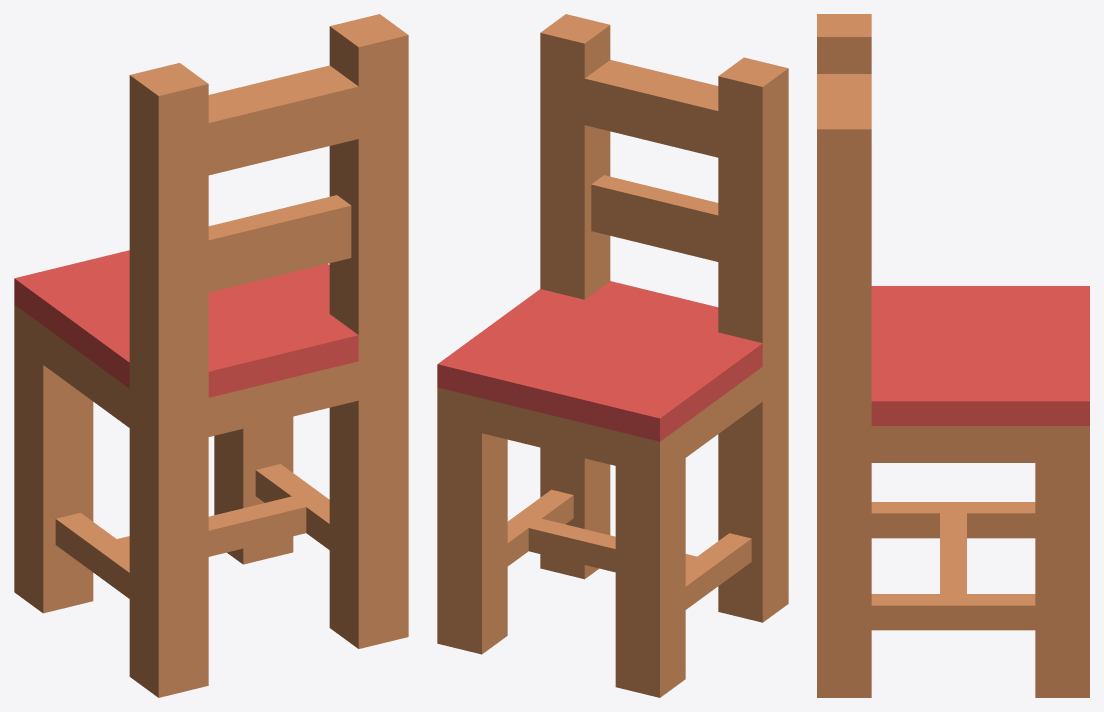
File: chairCushion.dae
The picture shows the model from 3 angles, left to right: view 1: azimuth 30°, elevation 25°; view 2: azimuth 150°, elevation 25°; view 3: azimuth 270°, elevation 25°; orthographic projection. The views are drawn at different scales.
Parts seen in each view (by area): view 1: chairCushion; view 2: chairCushion; view 3: chairCushion.
Boxes of the visible parts, x1,y1,x2,y2 form: chairCushion: [14, 14, 408, 697]; chairCushion: [437, 14, 788, 697]; chairCushion: [817, 14, 1089, 697].
Size of the model in its own units: 0.2 by 0.46 by 0.2.
